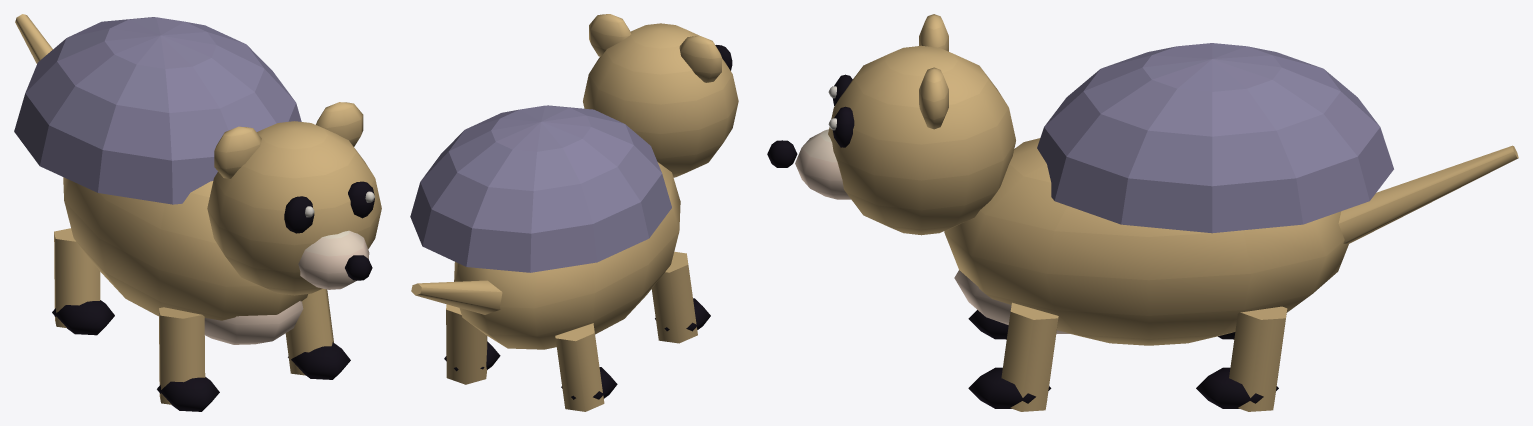
The model's file is monster_armadillo.glb.
3 renders of one model, left to right at view 1: azimuth 30°, elevation 25°; view 2: azimuth 150°, elevation 25°; view 3: azimuth 270°, elevation 25°, orthographic. The views are drawn at different scales.
Parts seen in each view (by area): view 1: body_t0_palette, legl_t0_palette, legr_t0_palette, tail_t0_palette; view 2: body_t0_palette, legl_t0_palette, legr_t0_palette, tail_t0_palette; view 3: body_t0_palette, legr_t0_palette, tail_t0_palette, legl_t0_palette.
Part boxes in pixels (left/top/right/bottom): body_t0_palette: left=14, top=17, right=381, bottom=344; legl_t0_palette: left=52, top=228, right=219, bottom=411; legr_t0_palette: left=285, top=288, right=350, bottom=379; tail_t0_palette: left=15, top=14, right=52, bottom=63; body_t0_palette: left=410, top=14, right=738, bottom=349; legl_t0_palette: left=555, top=251, right=710, bottom=411; legr_t0_palette: left=444, top=304, right=500, bottom=384; tail_t0_palette: left=411, top=280, right=502, bottom=314; body_t0_palette: left=767, top=14, right=1393, bottom=345; legr_t0_palette: left=968, top=302, right=1287, bottom=411; tail_t0_palette: left=1338, top=145, right=1518, bottom=243; legl_t0_palette: left=968, top=310, right=1235, bottom=339.
Bounding box in the file's own units: 0.24 × 0.2862 × 0.5945.
